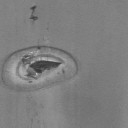slag inclusion: (2, 45, 78, 94), (28, 5, 39, 25), (62, 68, 66, 75)
